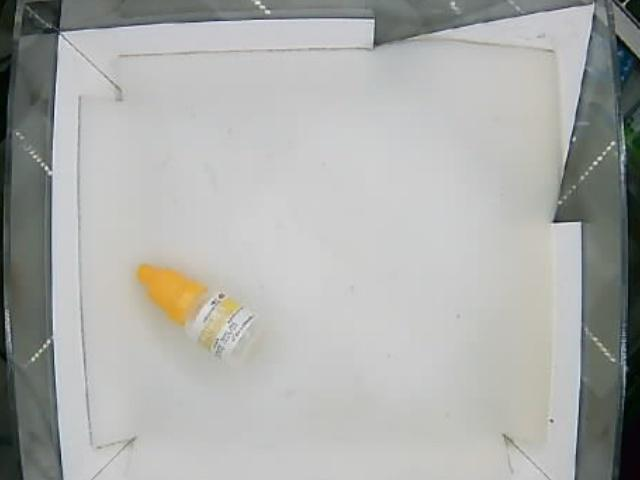Bottle: (133, 263, 259, 361)
